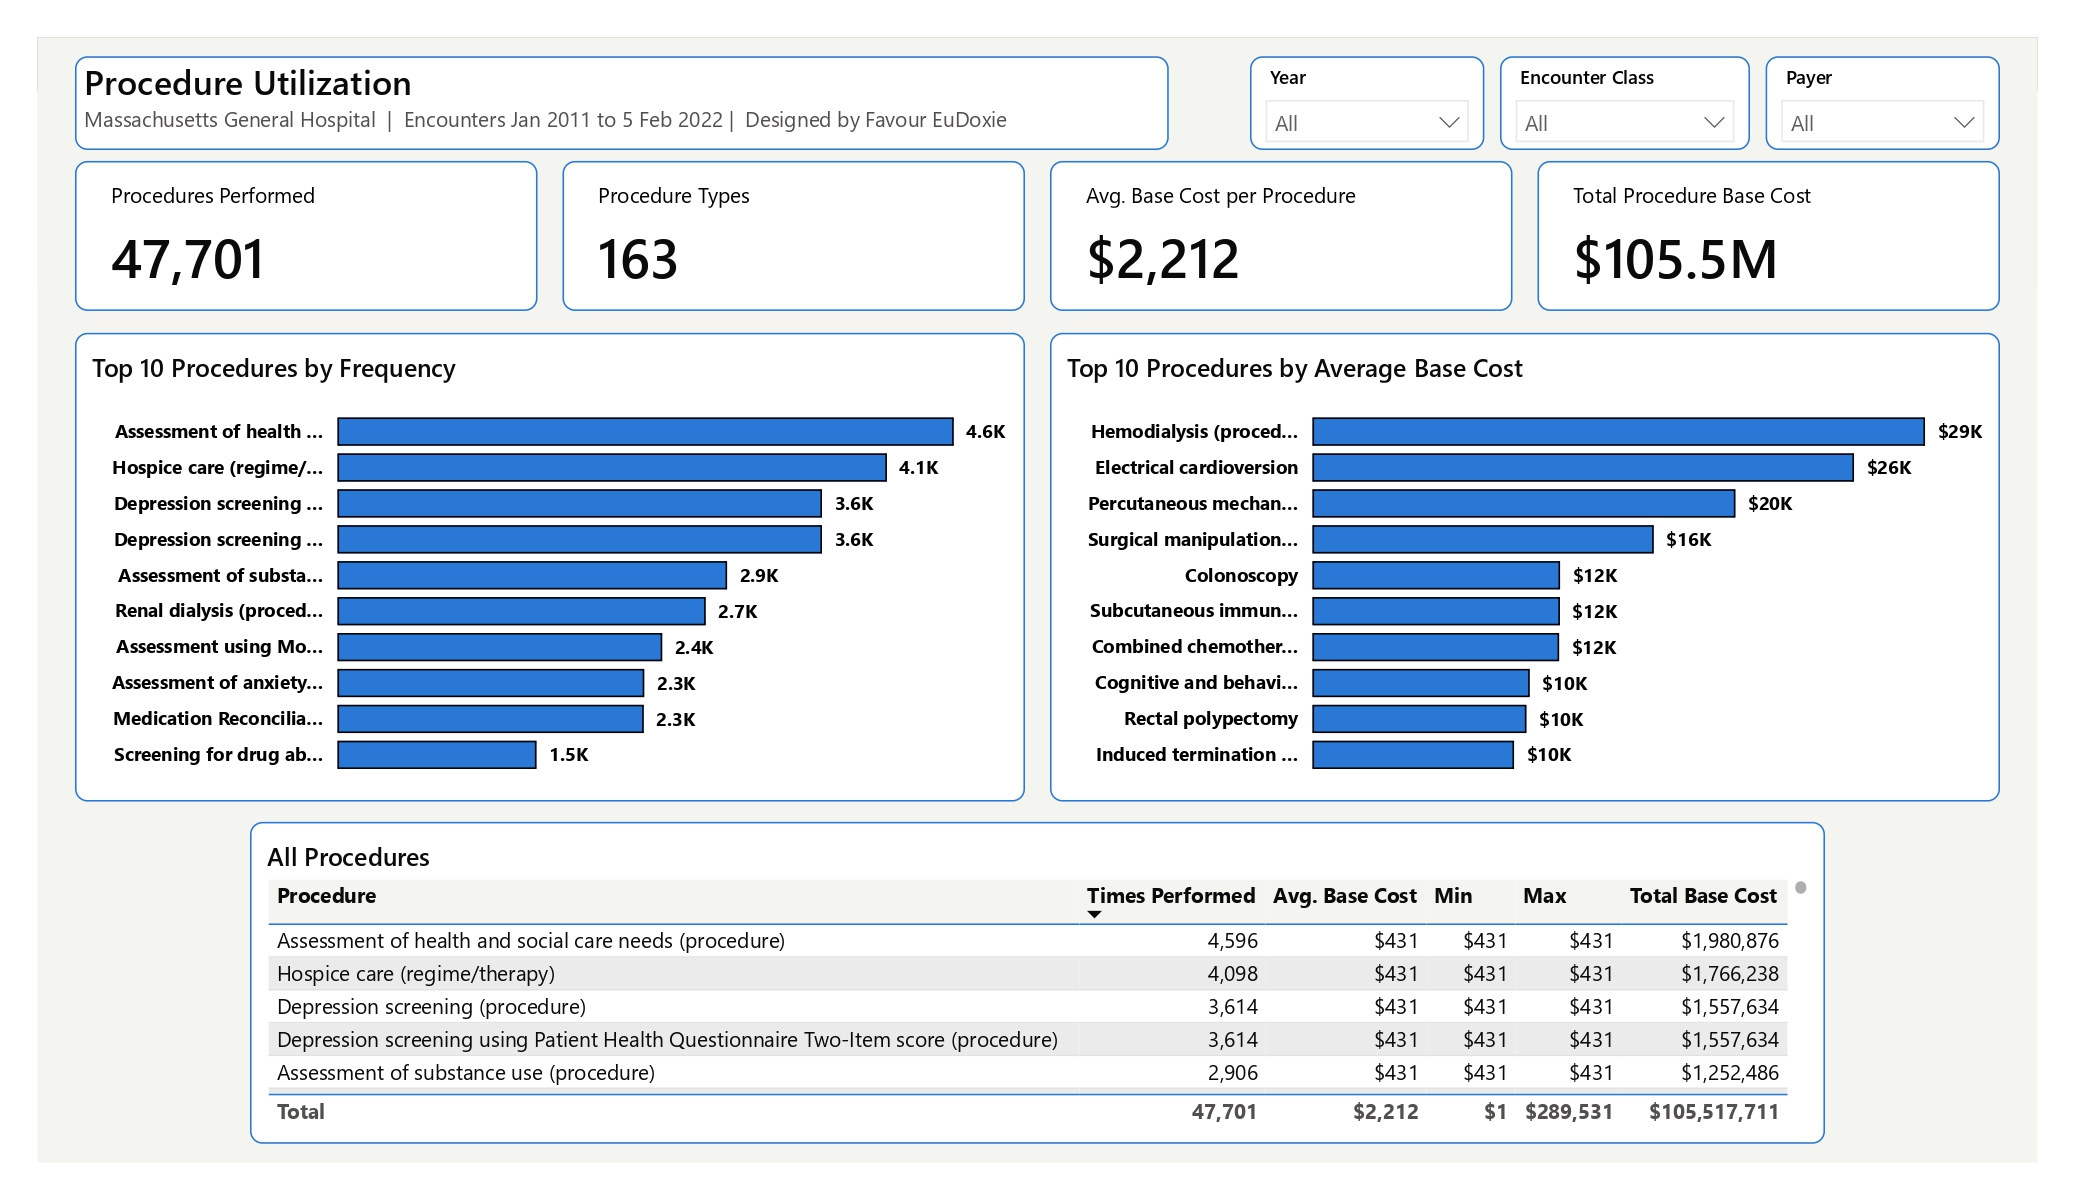

The page's visual inventory and layout, read from the dashboard file:
{"tool":"powerbi","page":{"name":"Procedures","canvas":[1280,720],"ordinal":4},"visuals":[{"type":"textbox","box":[24,12,700,60],"z":1000},{"type":"slicer","fields":{"Values":["Date.Year"]},"box":[776,12,150,60],"z":3000},{"type":"slicer","fields":{"Values":["Encounters.Encounter Class"]},"box":[936,12,160,60],"z":4000},{"type":"slicer","fields":{"Values":["Payers.Payer"]},"box":[1106,12,150,60],"z":5000},{"type":"cardVisual","fields":{"Data":["Procedures.Total Procedures"]},"box":[24,79.4,296,96],"z":6000},{"type":"cardVisual","fields":{"Data":["Procedures.Procedure Types"]},"box":[336,79.4,296,96],"z":7000},{"type":"cardVisual","fields":{"Data":["Procedures.Avg Procedure Base Cost"]},"box":[648,79.4,296,96],"z":8000},{"type":"cardVisual","fields":{"Data":["Procedures.Total Procedure Base Cost"]},"box":[960,79.4,296,96],"z":9000},{"type":"clusteredBarChart","title":"Top 10 Procedures by Frequency","fields":{"Category":["Procedures.Procedure"],"Y":["Procedures.Top 10 Procedures by Frequency"]},"box":[23.6,189.1,608,300],"z":10000},{"type":"clusteredBarChart","title":"Top 10 Procedures by Average Base Cost","fields":{"Category":["Procedures.Procedure"],"Y":["Procedures.Top 10 Avg Base Cost (10+)"]},"box":[647.6,189.1,608,300],"z":11000},{"type":"tableEx","title":"All Procedures","fields":{"Values":["Procedures.Procedure","Procedures.Total Procedures","Procedures.Avg Procedure Base Cost","Procedures.Min Procedure Base Cost","Procedures.Max Procedure Base Cost","Procedures.Total Procedure Base Cost"]},"box":[135.7,502,1008.5,206.3],"z":12000}]}

Visuals, with their boxes on the page's 1280x720 design canvas (x1, y1, x2, y2). These are canvas units, not pixel positions in the 2075x1200 screenshot, which may show the page scaled, cropped or inside an application window:
textbox: 24 12 724 72
slicer - Date.Year: 776 12 926 72
slicer - Encounters.Encounter Class: 936 12 1096 72
slicer - Payers.Payer: 1106 12 1256 72
cardVisual - Procedures.Total Procedures: 24 79 320 175
cardVisual - Procedures.Procedure Types: 336 79 632 175
cardVisual - Procedures.Avg Procedure Base Cost: 648 79 944 175
cardVisual - Procedures.Total Procedure Base Cost: 960 79 1256 175
"Top 10 Procedures by Frequency" clusteredBarChart: 24 189 632 489
"Top 10 Procedures by Average Base Cost" clusteredBarChart: 648 189 1256 489
"All Procedures" tableEx: 136 502 1144 708
